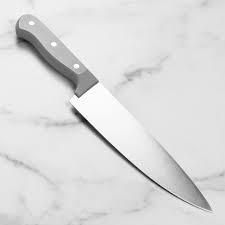Knife: (14, 12, 213, 212)
